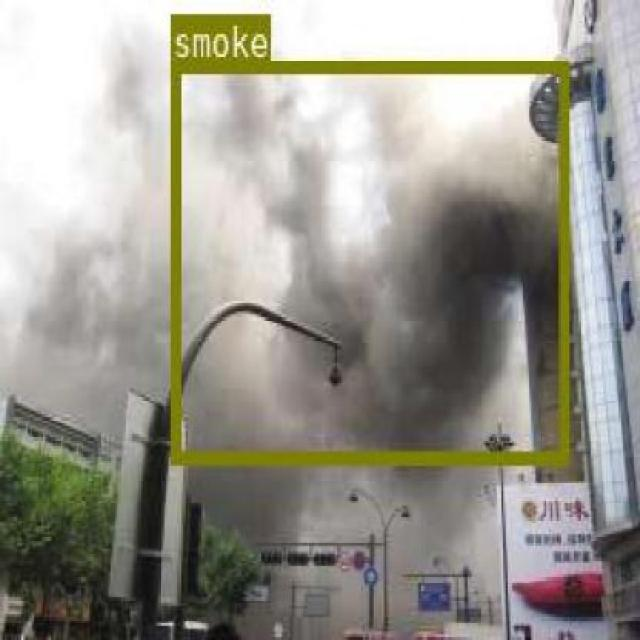Smoke: (169, 58, 566, 460), (29, 219, 157, 367), (214, 474, 346, 534), (417, 477, 496, 557)
